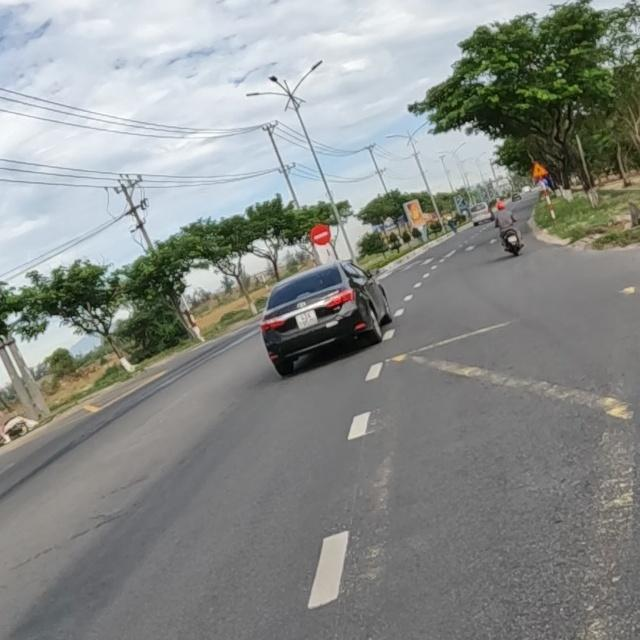license-plate: (293, 308, 318, 330)
